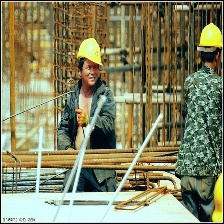helmet: (198, 24, 224, 49), (78, 38, 105, 62)
no-vest: (60, 79, 122, 145), (188, 69, 224, 142)
person: (174, 17, 224, 218), (56, 32, 116, 153)
